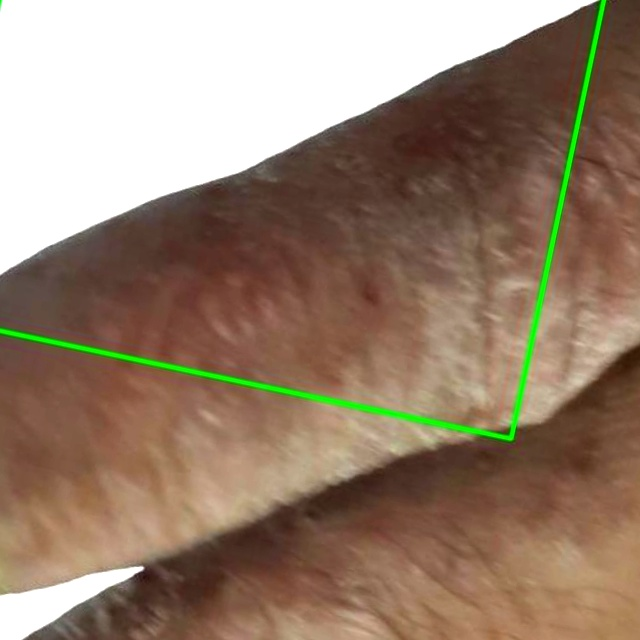Contact Dermatitis: (0, 0, 603, 438)
